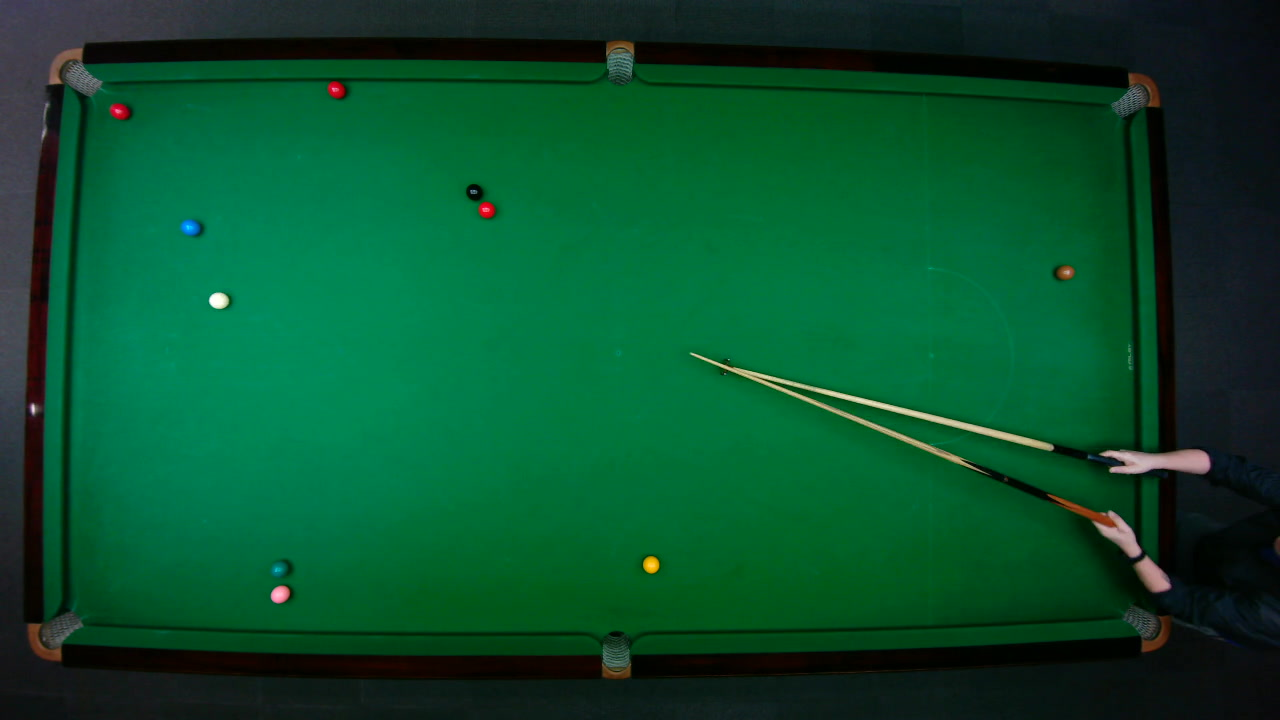bag: (26, 609, 84, 660), (47, 47, 102, 96), (1120, 604, 1171, 651), (1108, 72, 1160, 118), (601, 629, 630, 680), (605, 38, 633, 85)
black: (464, 182, 482, 200)
blue: (179, 217, 201, 236)
brown: (1054, 263, 1075, 280)
cue: (690, 350, 1129, 523)
green: (268, 558, 290, 576)
pink: (269, 583, 290, 604)
red: (108, 101, 130, 120), (326, 79, 346, 98), (476, 200, 495, 219)
white: (207, 290, 230, 309)
yellow: (641, 554, 660, 574)
zone: (927, 265, 1013, 427)
